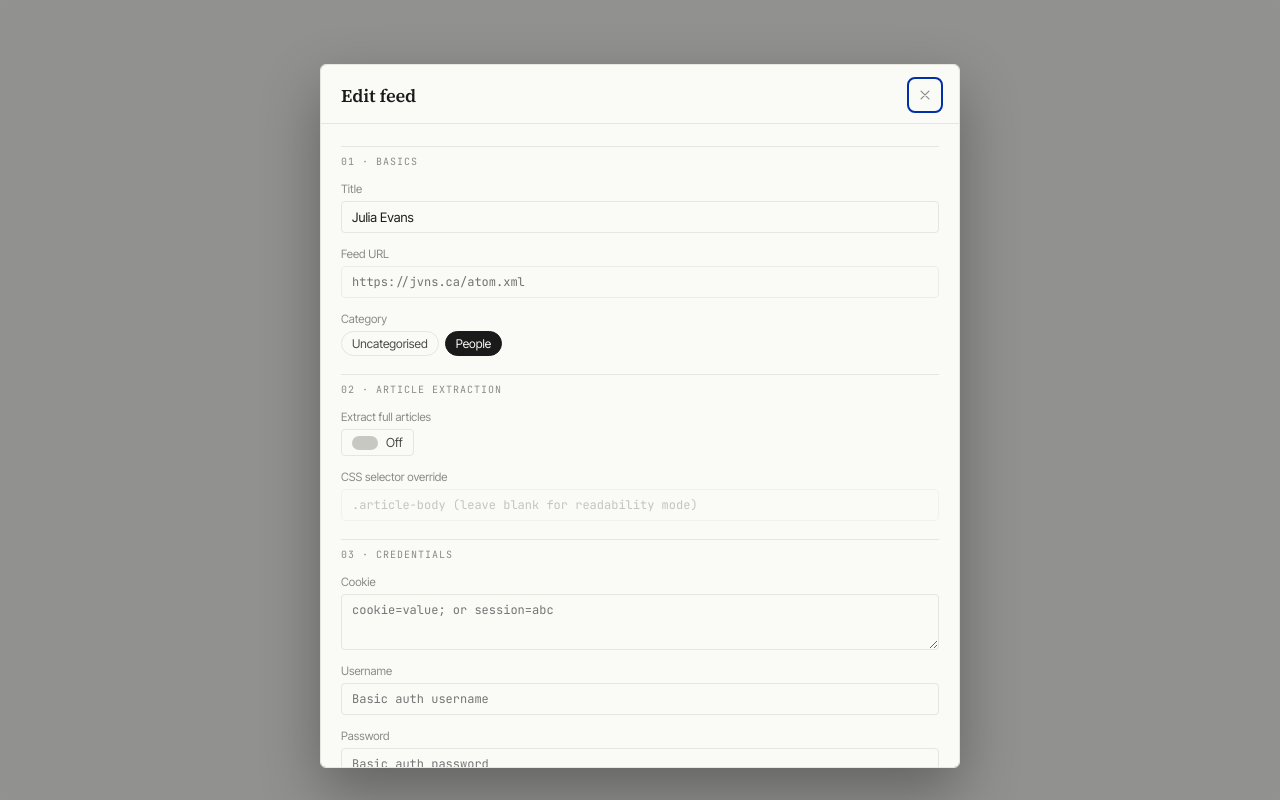
it: EditFeedDialog — extract toggle › selector input is disabled when extract is off
expect the field labelled "CSS selector override" is disabled: met, box x1=341 y1=489 x2=939 y2=521
Click the button with class "ts-feeds-edit-toggle": (377, 442) x1=341 y1=429 x2=414 y2=456
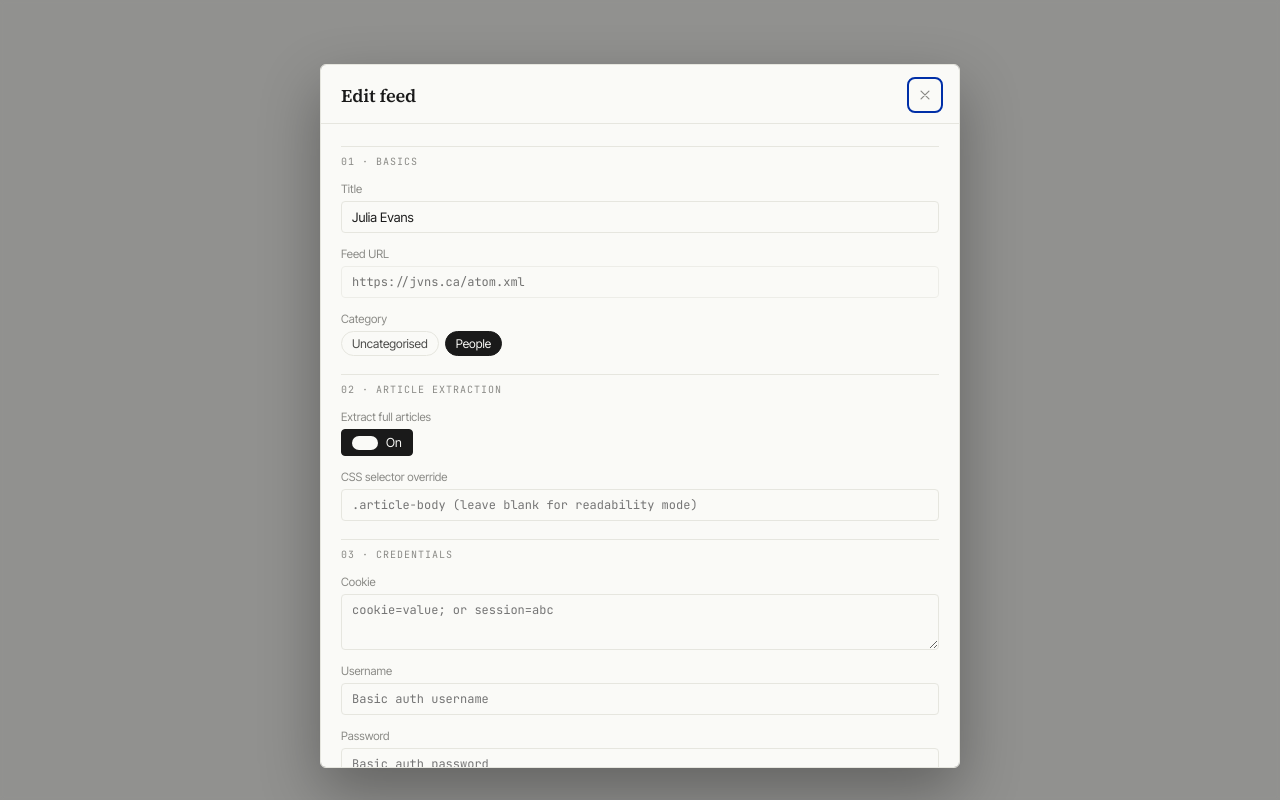
expect the field labelled "CSS selector override" is enabled: met, box x1=341 y1=489 x2=939 y2=521
